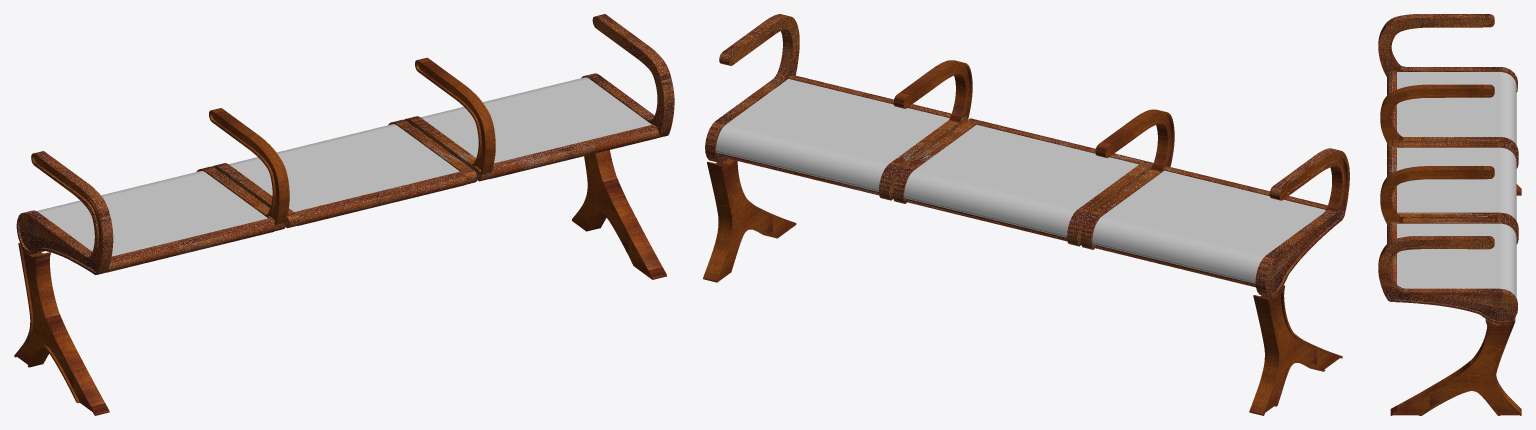
3 renders of one model, left to right at view 1: azimuth 30°, elevation 25°; view 2: azimuth 150°, elevation 25°; view 3: azimuth 270°, elevation 25°, orthographic. The views are drawn at different scales.
Visible parts, largest first — view 1: mesh5_mesh5-geometry, mesh10_mesh10-geometry, mesh14_mesh14-geometry, mesh2_mesh2-geometry, mesh4_mesh4-geometry, mesh1_mesh1-geometry, mesh8_mesh8-geometry, mesh12_mesh12-geometry, mesh9_mesh9-geometry, mesh6_mesh6-geometry, mesh13_mesh13-geometry, mesh11_mesh11-geometry; view 2: mesh5_mesh5-geometry, mesh10_mesh10-geometry, mesh14_mesh14-geometry, mesh1_mesh1-geometry, mesh2_mesh2-geometry, mesh8_mesh8-geometry, mesh12_mesh12-geometry, mesh6_mesh6-geometry, mesh3_mesh3-geometry, mesh4_mesh4-geometry, mesh13_mesh13-geometry, mesh11_mesh11-geometry (+1 smaller); view 3: mesh5_mesh5-geometry, mesh10_mesh10-geometry, mesh12_mesh12-geometry, mesh1_mesh1-geometry, mesh14_mesh14-geometry, mesh8_mesh8-geometry, mesh6_mesh6-geometry, mesh13_mesh13-geometry, mesh11_mesh11-geometry, mesh4_mesh4-geometry, mesh9_mesh9-geometry.
Part boxes in pixels (x1,y1,x2,y2): mesh5_mesh5-geometry: [229, 77, 651, 211]; mesh10_mesh10-geometry: [36, 171, 267, 256]; mesh14_mesh14-geometry: [31, 57, 495, 268]; mesh2_mesh2-geometry: [14, 243, 109, 415]; mesh4_mesh4-geometry: [294, 124, 658, 225]; mesh1_mesh1-geometry: [572, 150, 666, 279]; mesh8_mesh8-geometry: [16, 151, 113, 274]; mesh12_mesh12-geometry: [581, 14, 674, 137]; mesh9_mesh9-geometry: [107, 218, 275, 272]; mesh6_mesh6-geometry: [212, 119, 477, 228]; mesh13_mesh13-geometry: [404, 116, 491, 181]; mesh11_mesh11-geometry: [196, 166, 285, 231]; mesh5_mesh5-geometry: [716, 79, 1138, 237]; mesh10_mesh10-geometry: [1092, 170, 1325, 283]; mesh14_mesh14-geometry: [893, 60, 1348, 213]; mesh1_mesh1-geometry: [703, 158, 796, 282]; mesh2_mesh2-geometry: [1249, 285, 1342, 415]; mesh8_mesh8-geometry: [1255, 148, 1349, 297]; mesh12_mesh12-geometry: [705, 14, 799, 163]; mesh6_mesh6-geometry: [893, 118, 1153, 246]; mesh3_mesh3-geometry: [725, 154, 1255, 287]; mesh4_mesh4-geometry: [788, 75, 1144, 164]; mesh13_mesh13-geometry: [879, 117, 968, 200]; mesh11_mesh11-geometry: [1081, 166, 1167, 249]; mesh5_mesh5-geometry: [1397, 147, 1516, 297]; mesh10_mesh10-geometry: [1397, 72, 1516, 144]; mesh12_mesh12-geometry: [1378, 236, 1517, 323]; mesh1_mesh1-geometry: [1390, 318, 1521, 415]; mesh14_mesh14-geometry: [1380, 23, 1494, 224]; mesh8_mesh8-geometry: [1378, 14, 1517, 92]; mesh6_mesh6-geometry: [1387, 142, 1518, 232]; mesh13_mesh13-geometry: [1387, 218, 1518, 244]; mesh11_mesh11-geometry: [1387, 137, 1518, 156]; mesh4_mesh4-geometry: [1387, 146, 1396, 283]; mesh9_mesh9-geometry: [1387, 71, 1396, 130].
Size of the model in its own units: 0.9114 by 0.3312 by 0.2443.
